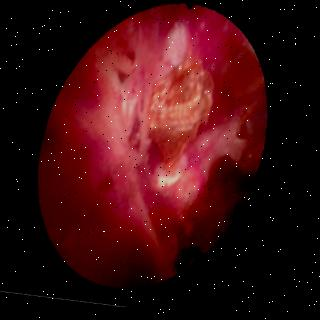stone: (190, 106, 267, 244), (150, 61, 215, 167), (219, 47, 264, 101), (153, 218, 179, 264)
tissue: (44, 18, 235, 283)
